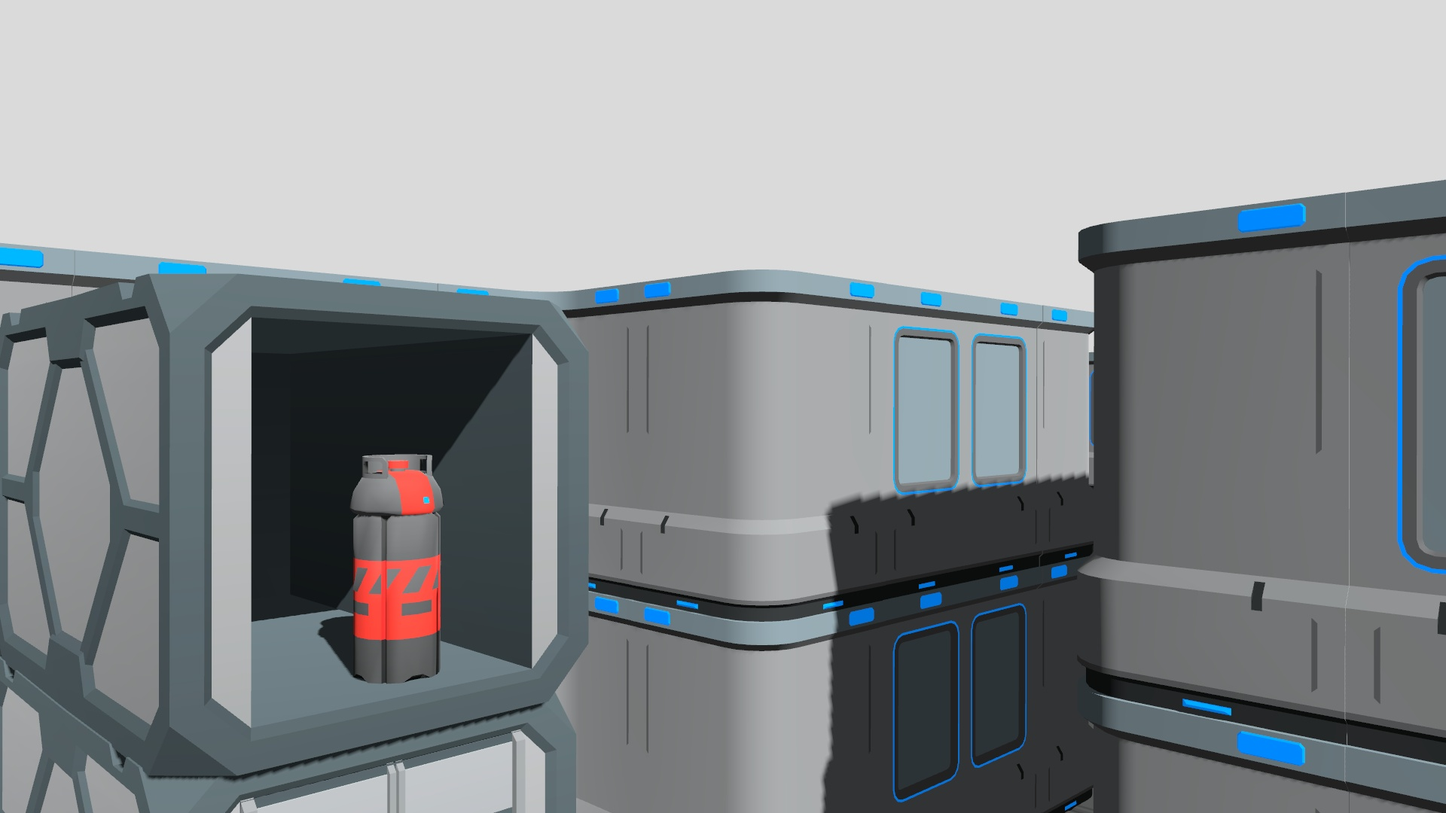red_barrel: (343, 440, 446, 692)
